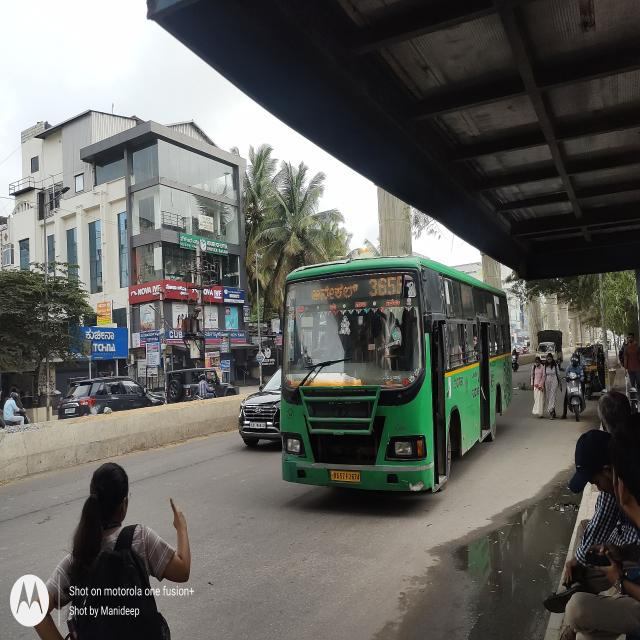bus: (281, 262, 520, 498)
display: (292, 271, 414, 304)
dnumber: (369, 276, 406, 302)
